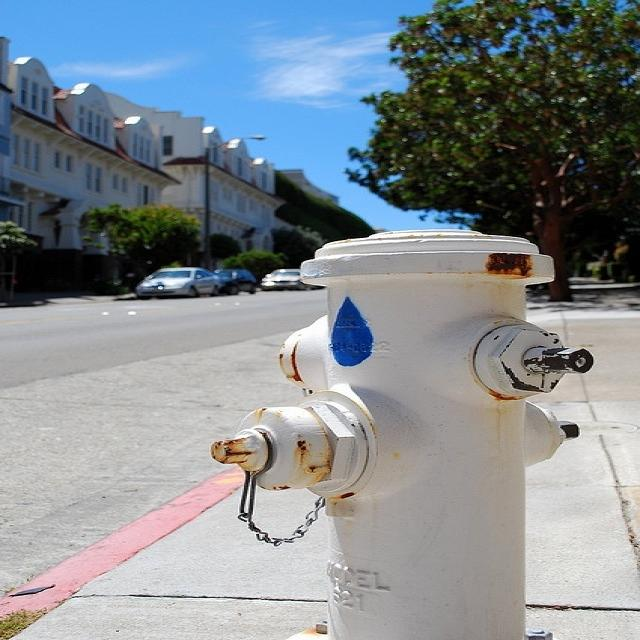fire_hydrant: (105, 137, 640, 640)
